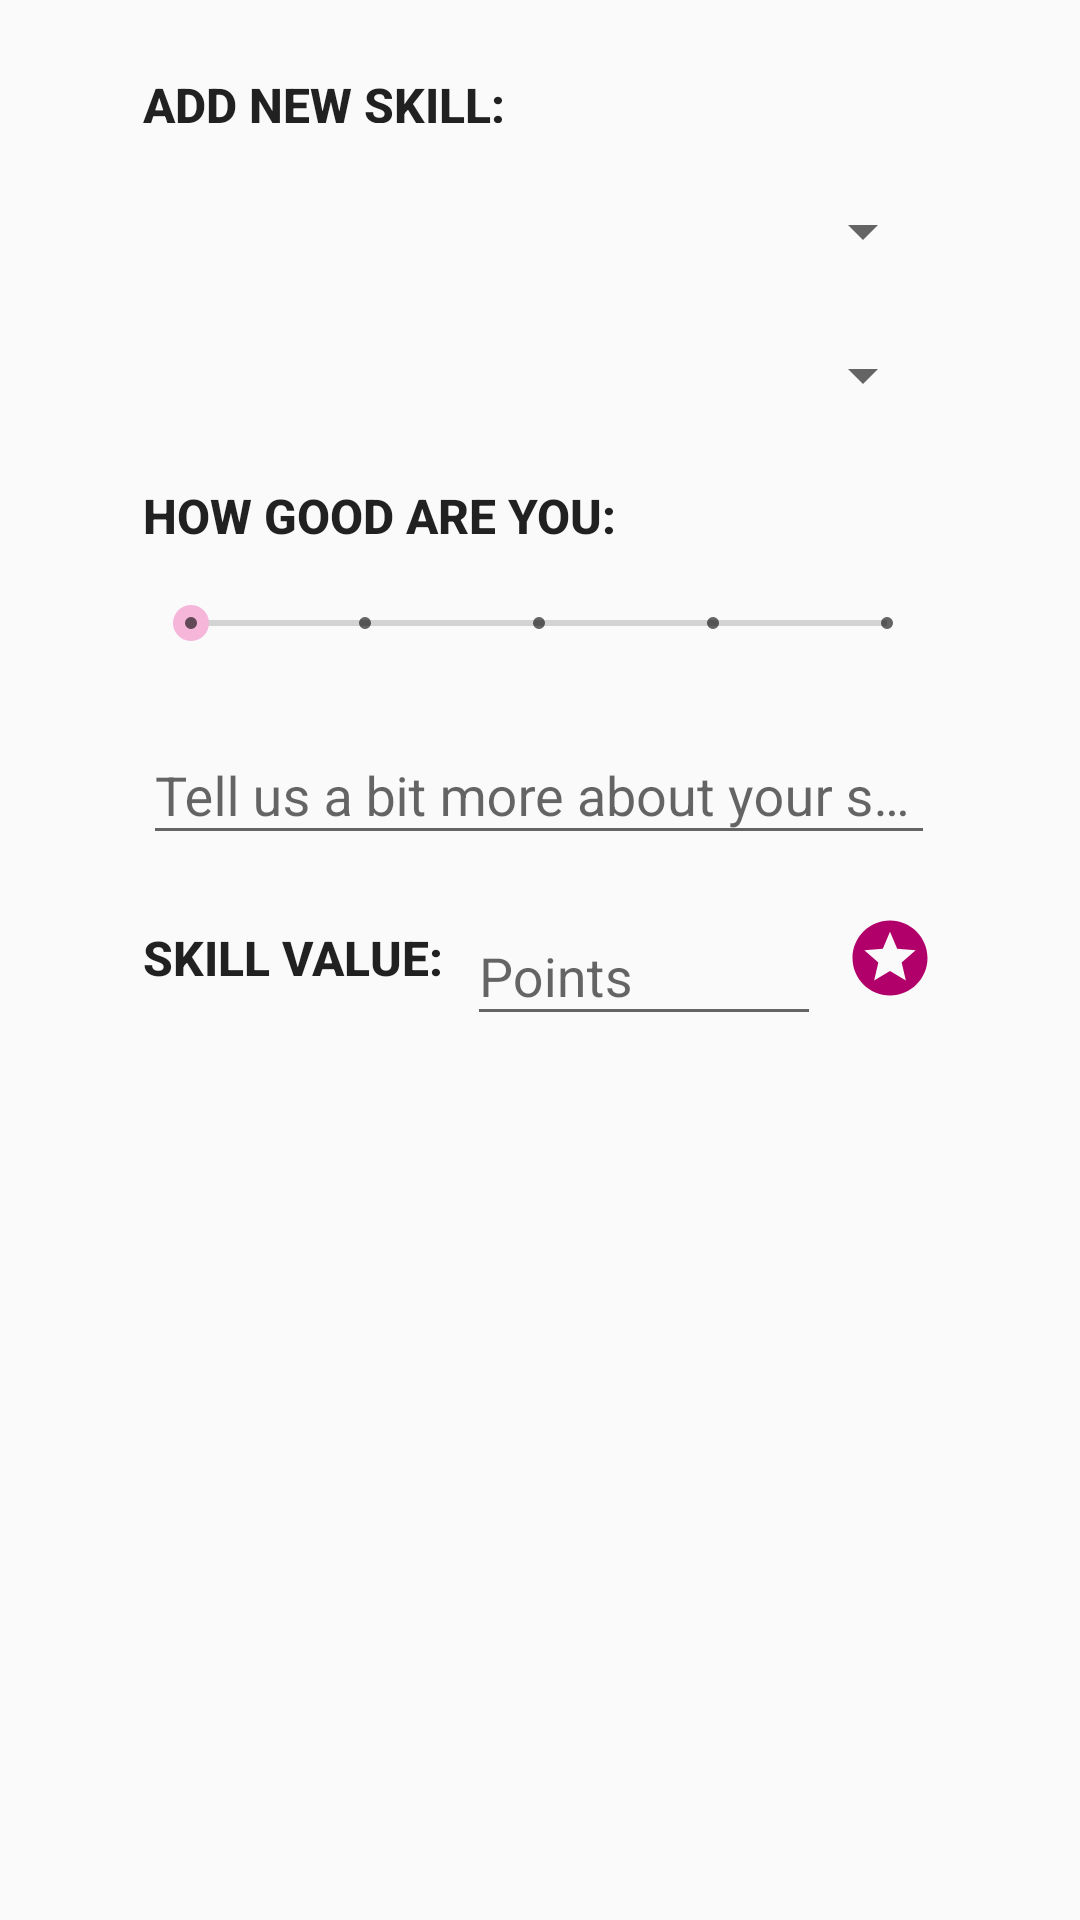

Icons on this 1080*1920 Android screen, each with its box as [x1,y1,x2,y2]:
star: [852,920,928,996]
